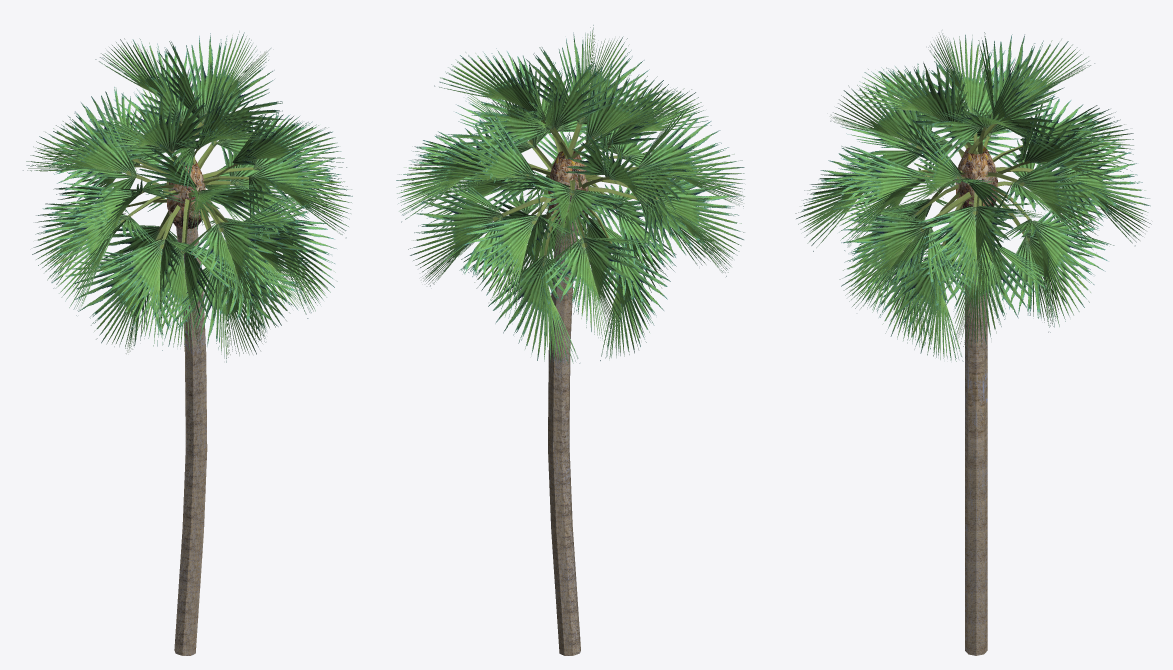
File: cabbagePalm_202c.dae
3 views of the same model, side by side, from view 1: azimuth 30°, elevation 25°; view 2: azimuth 150°, elevation 25°; view 3: azimuth 270°, elevation 25° (orthographic). The views are drawn at different scales.
Parts seen in each view (by area): view 1: cabbage_half (×37), cabbage_leaf202c (×11), cabbagetrunk2, cabbagetrunktop1; view 2: cabbage_half (×32), cabbage_leaf202c (×12), cabbagetrunk2, cabbagetrunktop1; view 3: cabbage_half (×38), cabbage_leaf202c (×12), cabbagetrunk2, cabbagetrunktop1.
Part boxes in pixels (box(x1,y1,x2,y2)): cabbage_half (×37): box(23, 31, 352, 362); cabbage_leaf202c (×11): box(49, 41, 312, 330); cabbagetrunk2: box(174, 226, 207, 655); cabbagetrunktop1: box(167, 160, 205, 228); cabbage_half (×32): box(396, 25, 744, 363); cabbage_leaf202c (×12): box(463, 47, 704, 307); cabbagetrunk2: box(548, 221, 580, 655); cabbagetrunktop1: box(548, 151, 588, 222); cabbage_half (×38): box(795, 33, 1151, 361); cabbage_leaf202c (×12): box(851, 54, 1120, 317); cabbagetrunk2: box(965, 271, 987, 655); cabbagetrunktop1: box(955, 146, 997, 208).
Bounding box in the file's own units: 117 × 117 × 217.
Materials: 5 (4 with a texture image).
